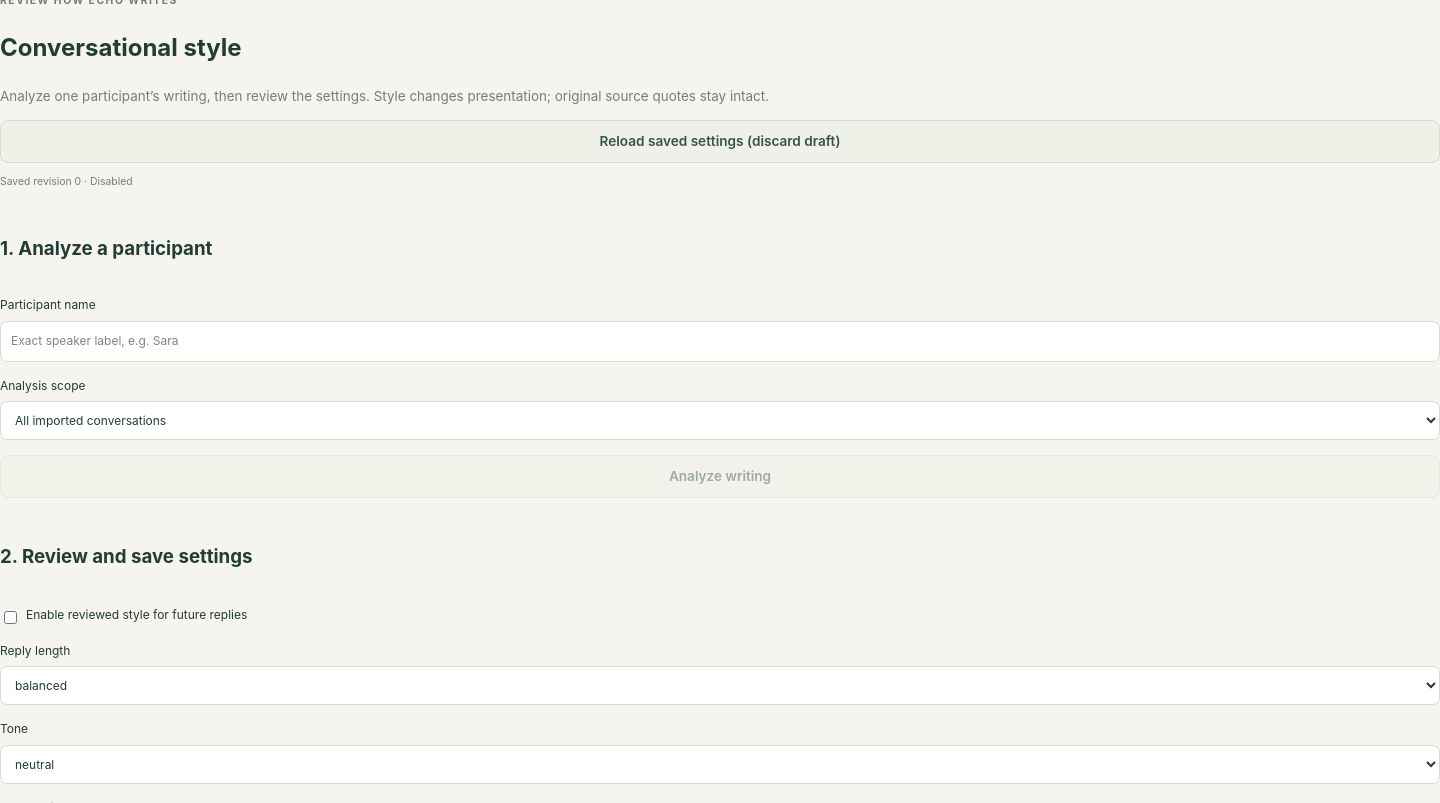
Test: analysis keeps draft settings, suggestions require copying, and enabling requires a reviewed save
The width and height of the screenshot is (1440, 803).
Select "warm" in the dropdown labelled "Tone" at (720, 764), box [0,745,1439,784]
Type "Sara" into the field labelled "Participant name" at (720, 341), box [0,321,1439,362]
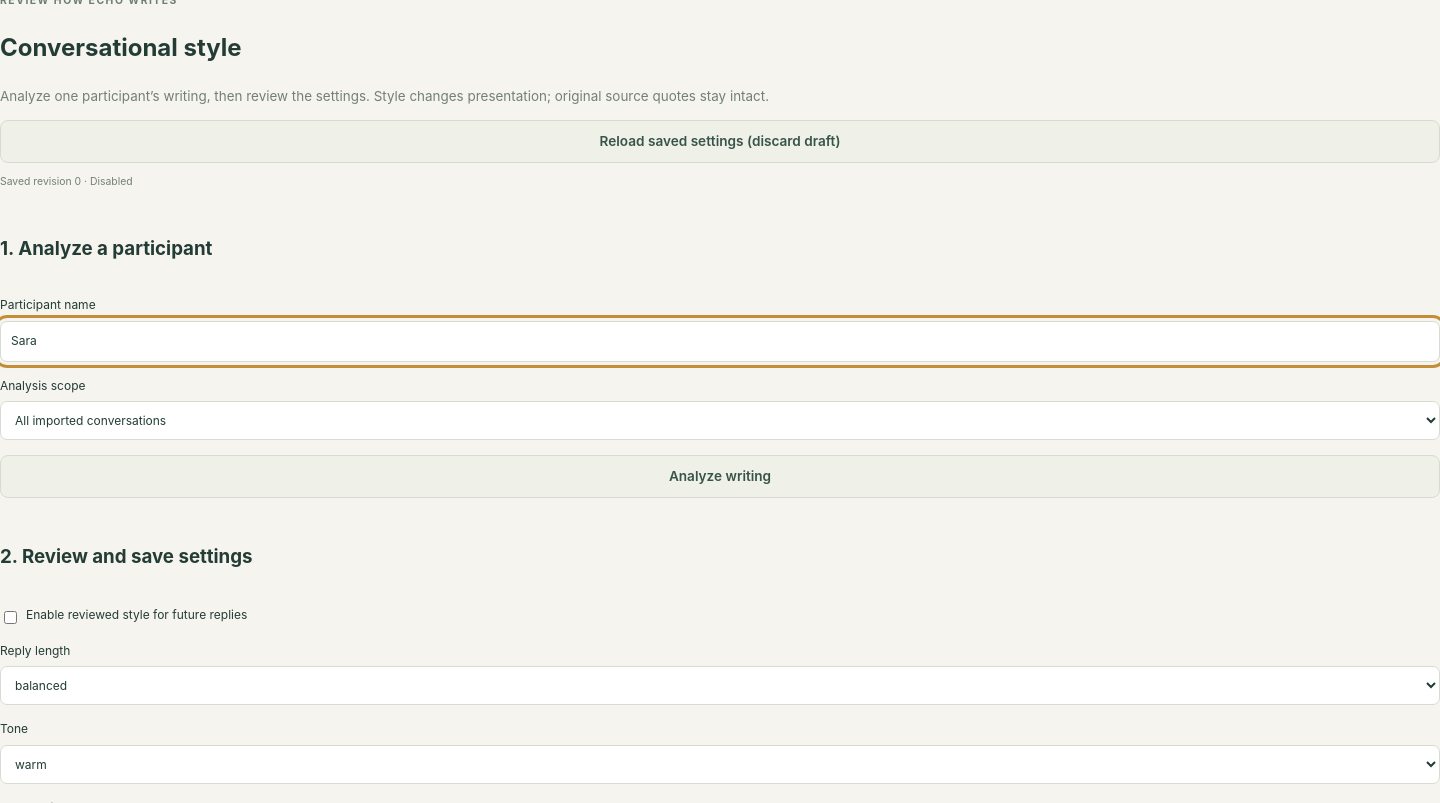
Select "Learning export" in the dropdown labelled "Analysis scope" at (720, 421), box [0,401,1439,440]
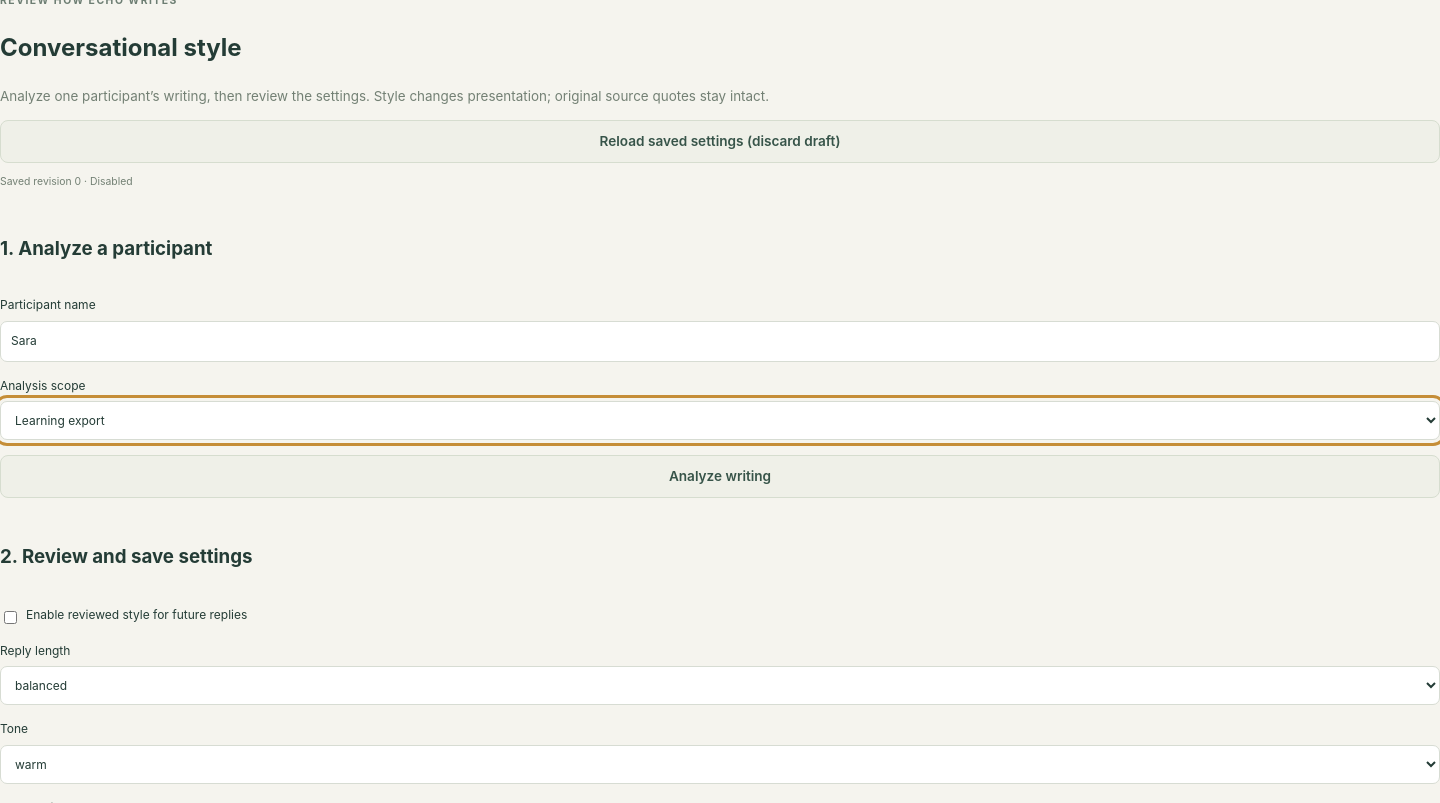
Click the button "Analyze writing" at (720, 477), box [0,455,1439,498]
(page scrolled)
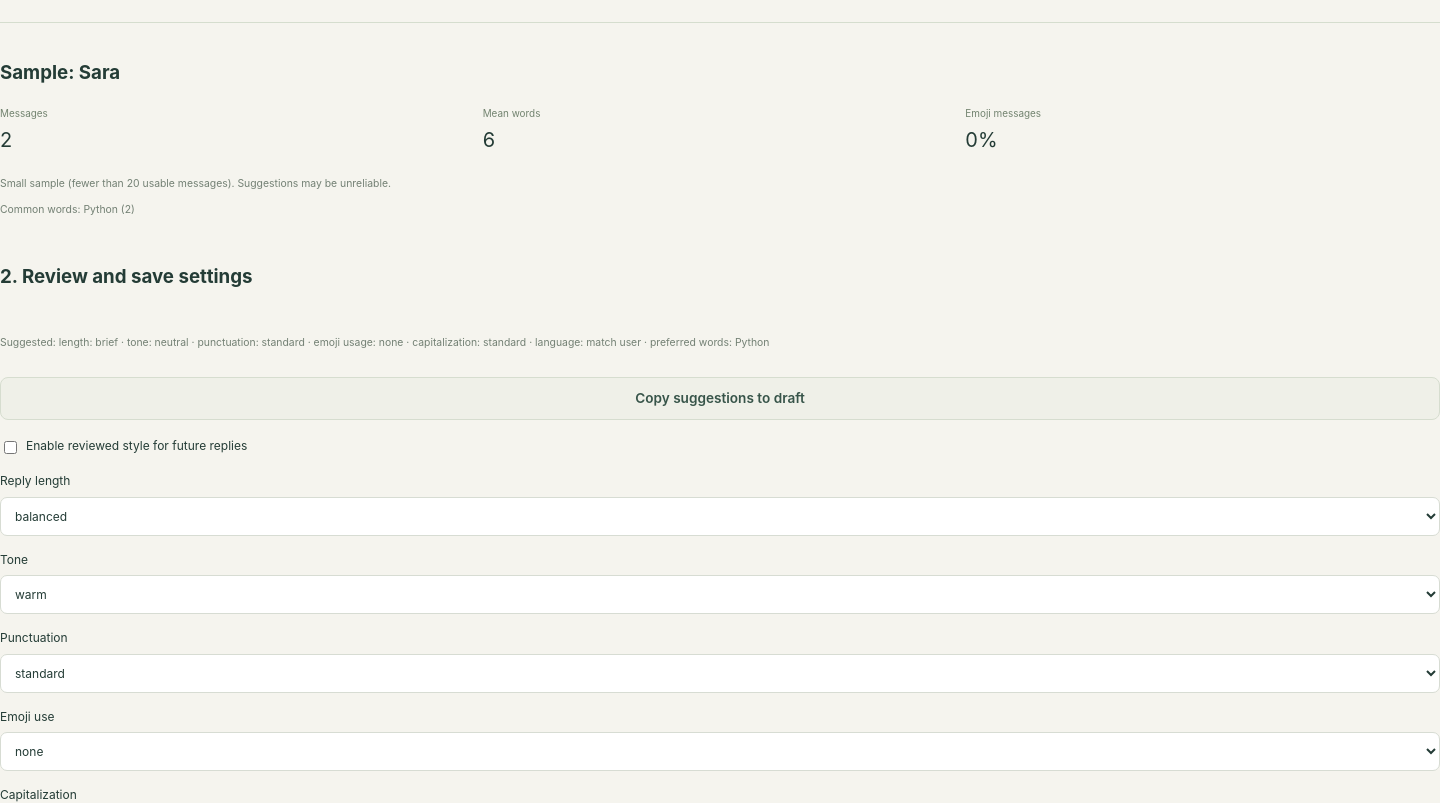
Expected: the checkbox labelled "Enable reviewed style for future replies" is not checked, [4,441,17,454]
Expected: the text "Small sample" is shown, [0,177,391,190]
Click the button "Copy suggestions to draft" at (720, 398), box [0,377,1439,420]
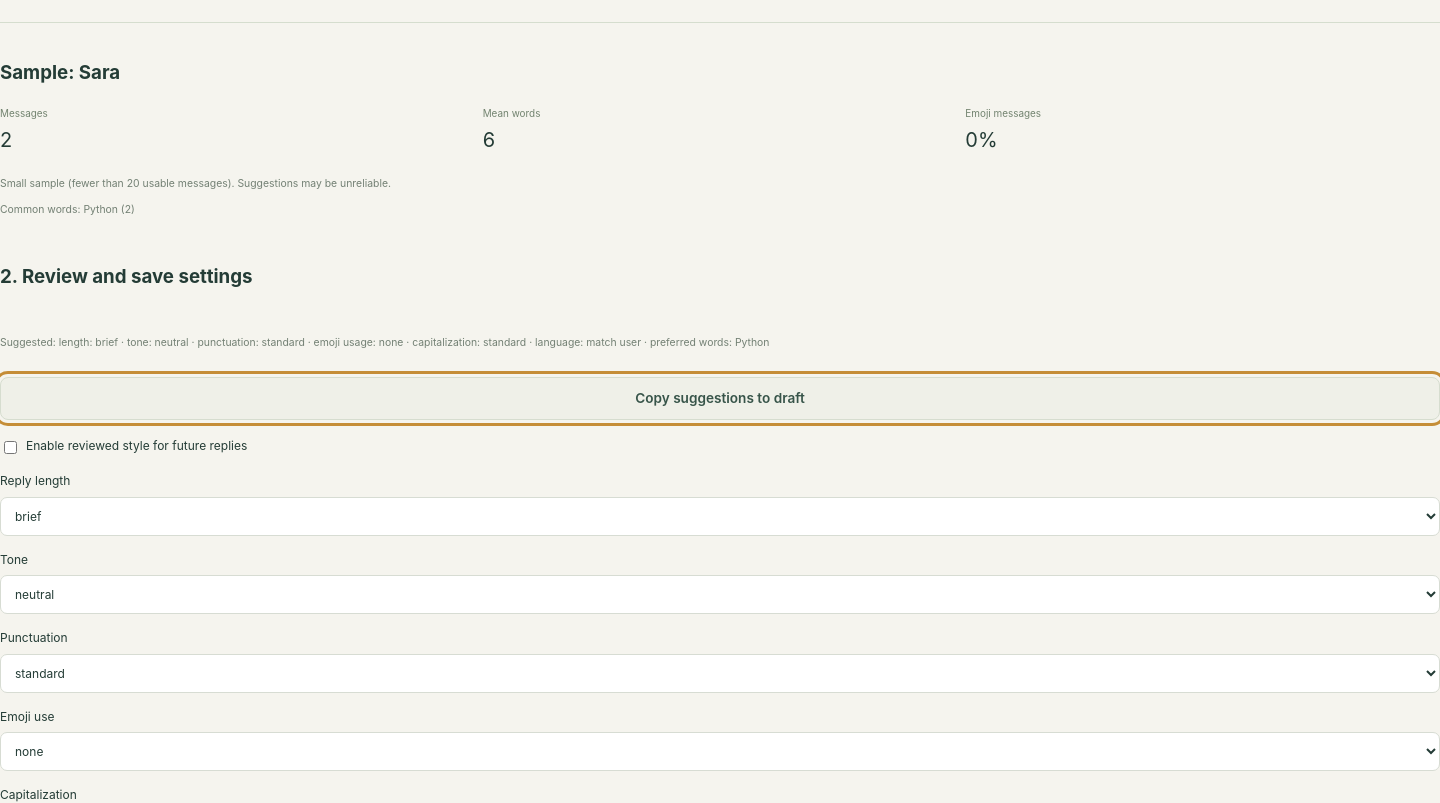
Expected: the dropdown labelled "Reply length" shows "brief", [0,496,1439,536]
Click the checkbox labelled "Enable reviewed style for future replies" at (10, 447), box [4,441,17,454]
(page scrolled)
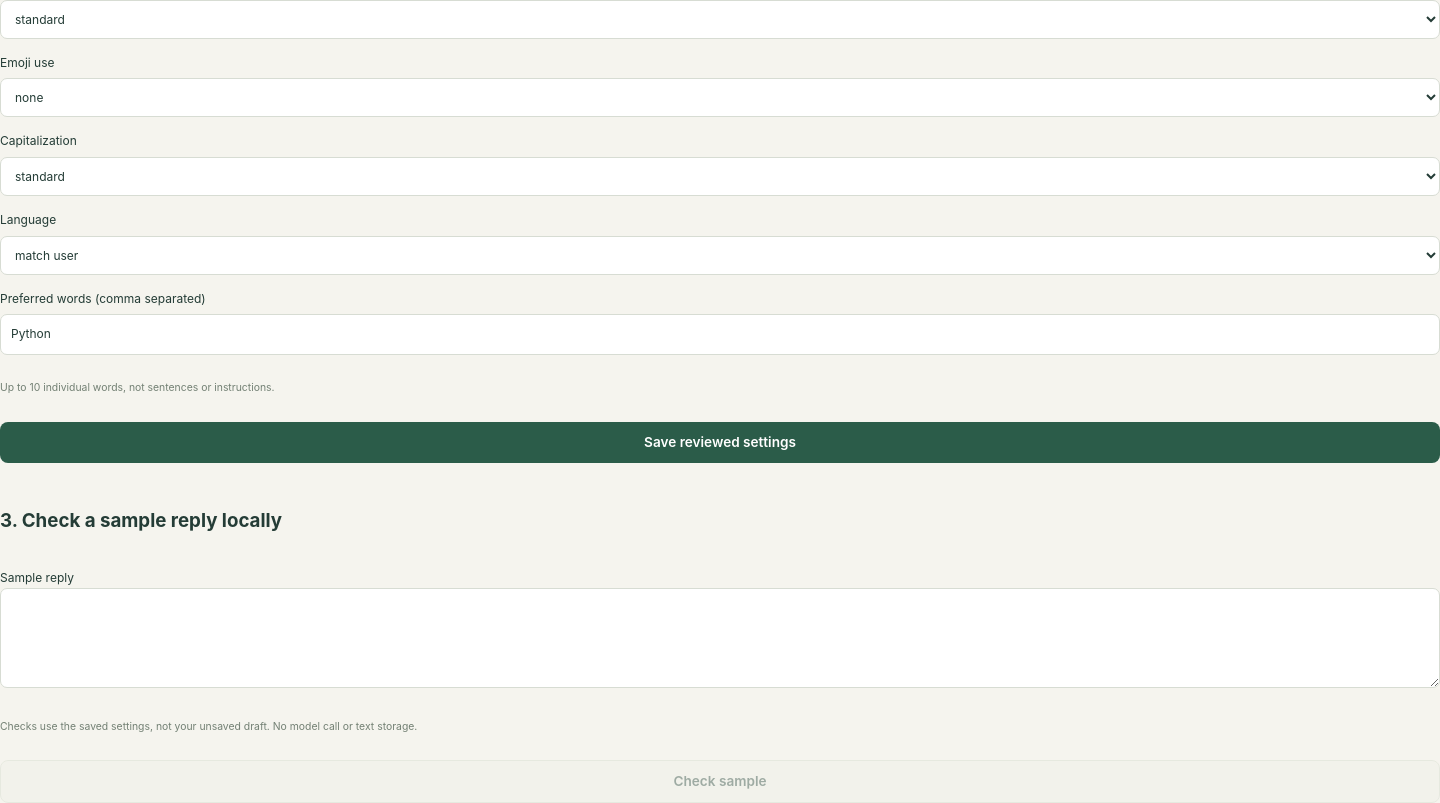
Click the button "Save reviewed settings" at (720, 442), box [0,422,1439,463]
(page scrolled)
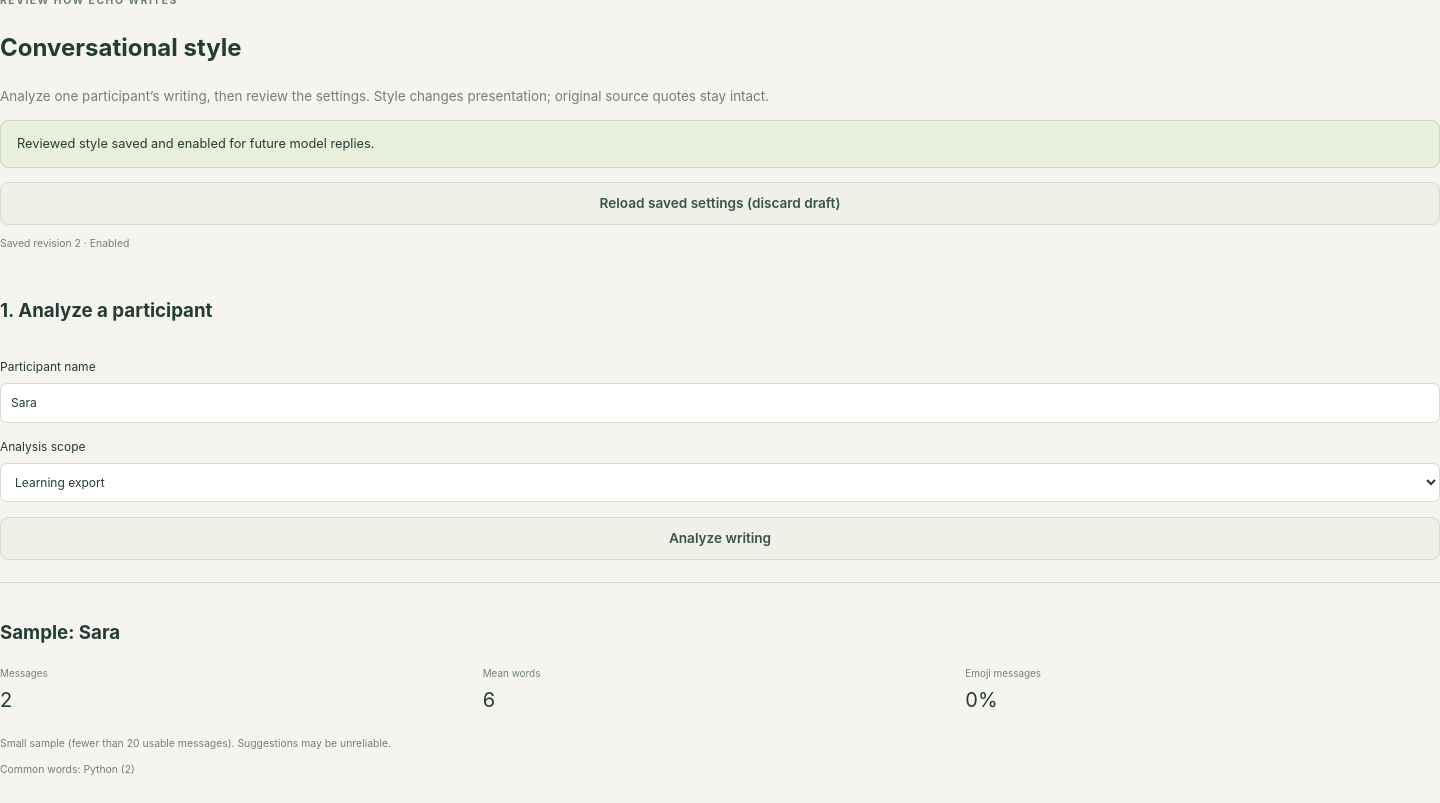
Expected: the text "Reviewed style saved and enabled for future model replies." is shown, [0,120,1439,168]
